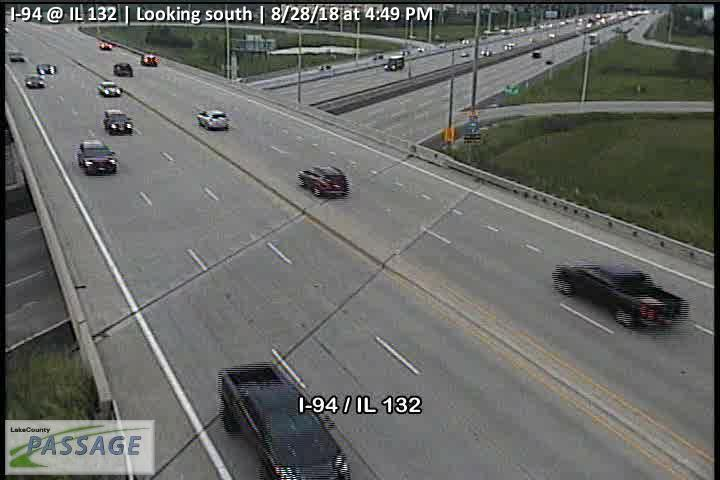SUV: (297, 166, 347, 199), (78, 139, 115, 175), (103, 109, 132, 134), (196, 109, 228, 131), (100, 82, 120, 97), (112, 63, 132, 76)
Sedan: (25, 74, 45, 90)
Truck: (213, 359, 351, 480), (552, 258, 687, 334), (383, 56, 406, 71)
